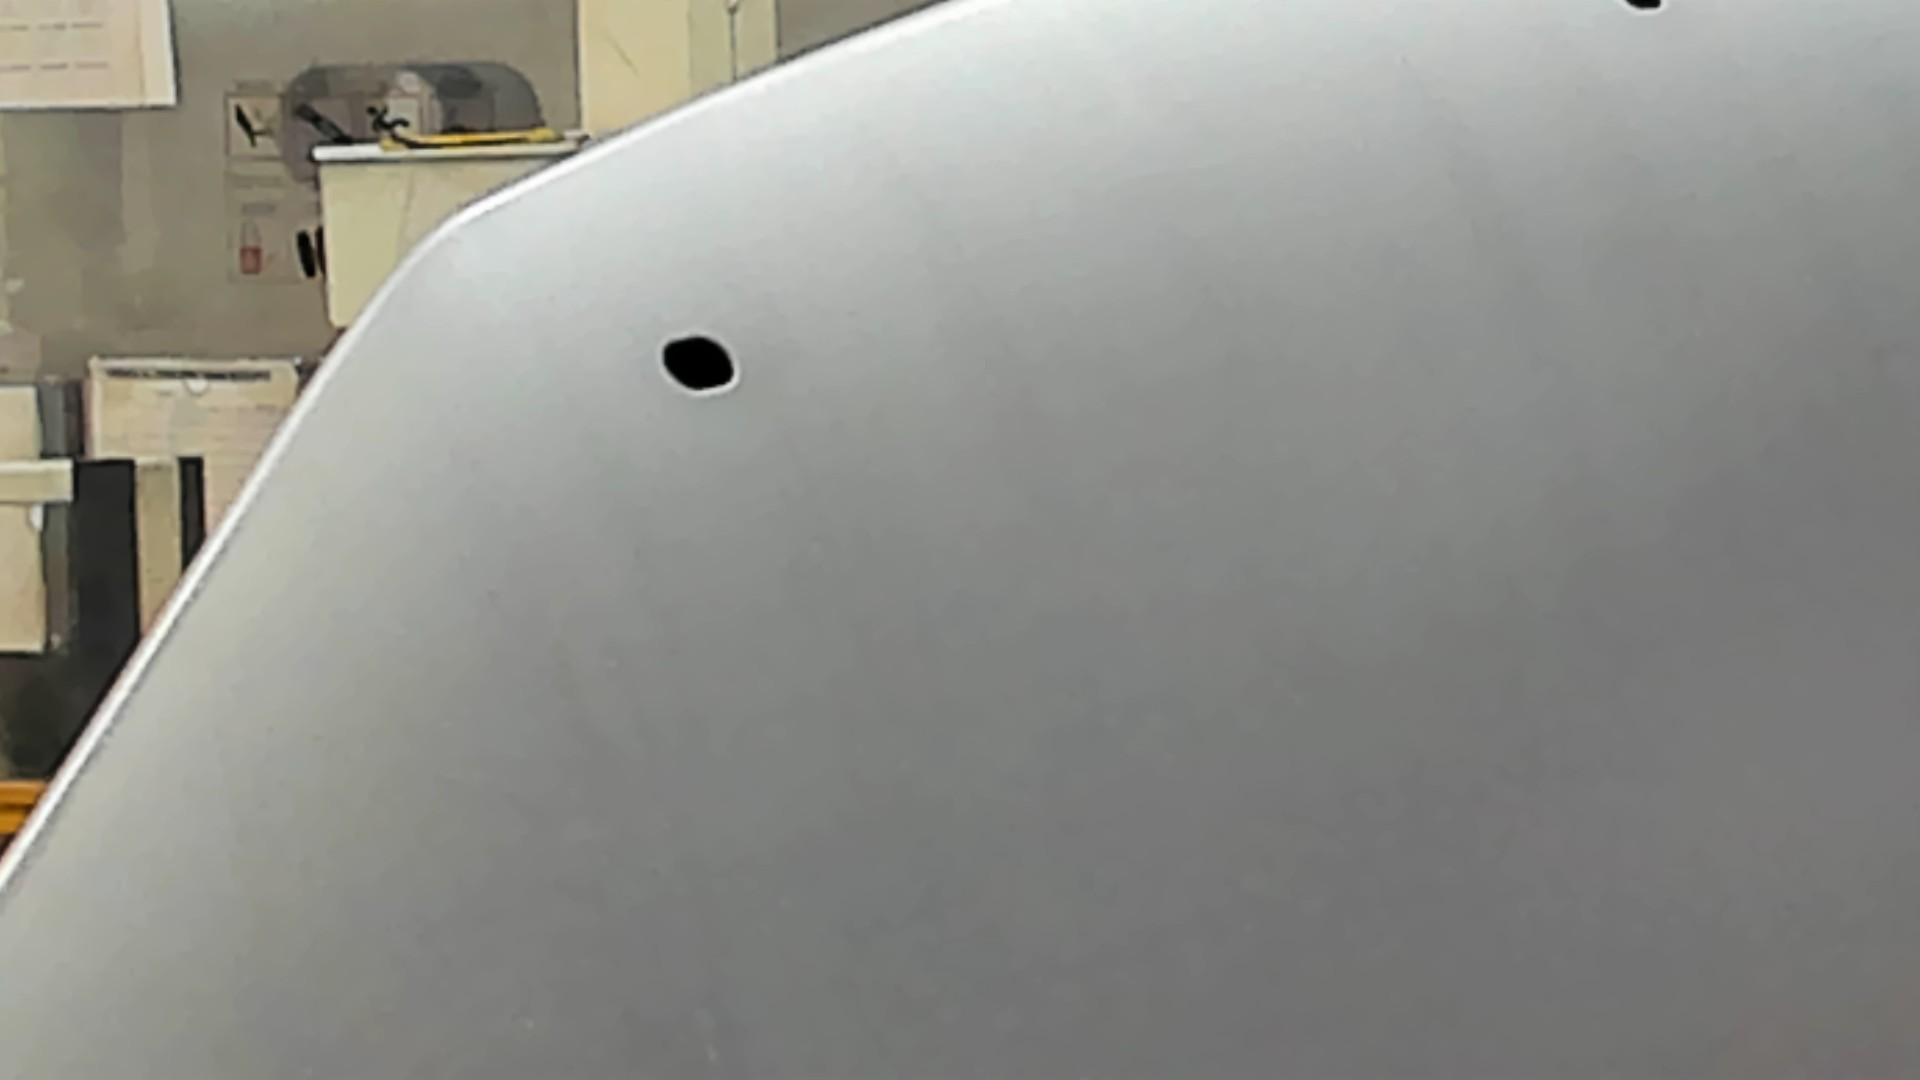Agujero: (651, 331, 746, 400), (1613, 1, 1673, 18)
